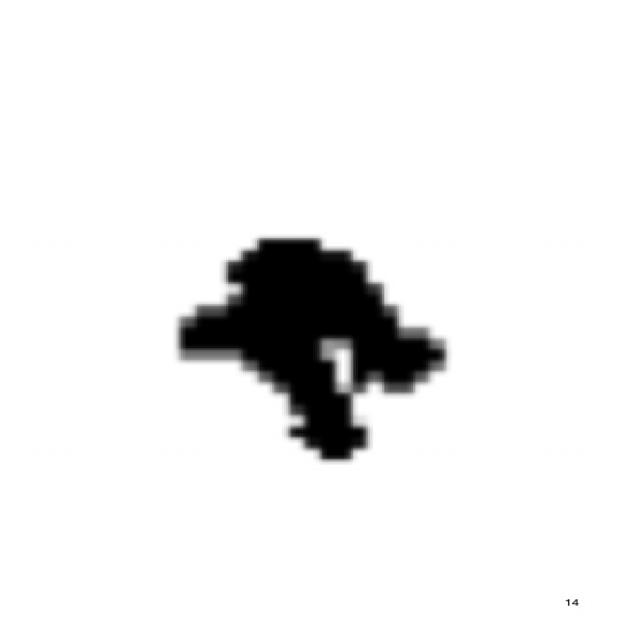0 -zero-: (162, 221, 456, 468)
